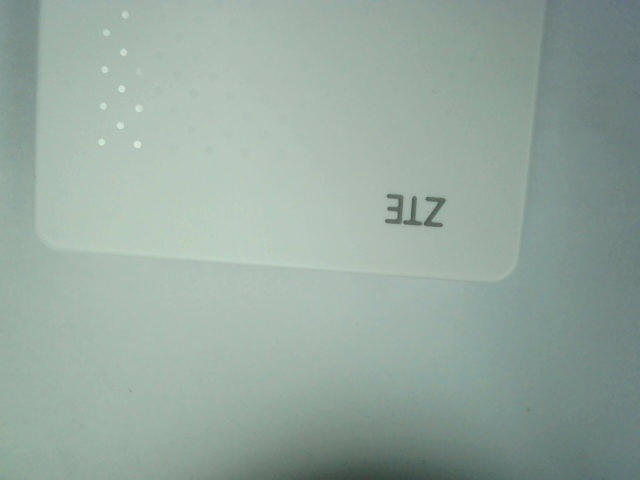AN_ZTE: (381, 189, 452, 229)
